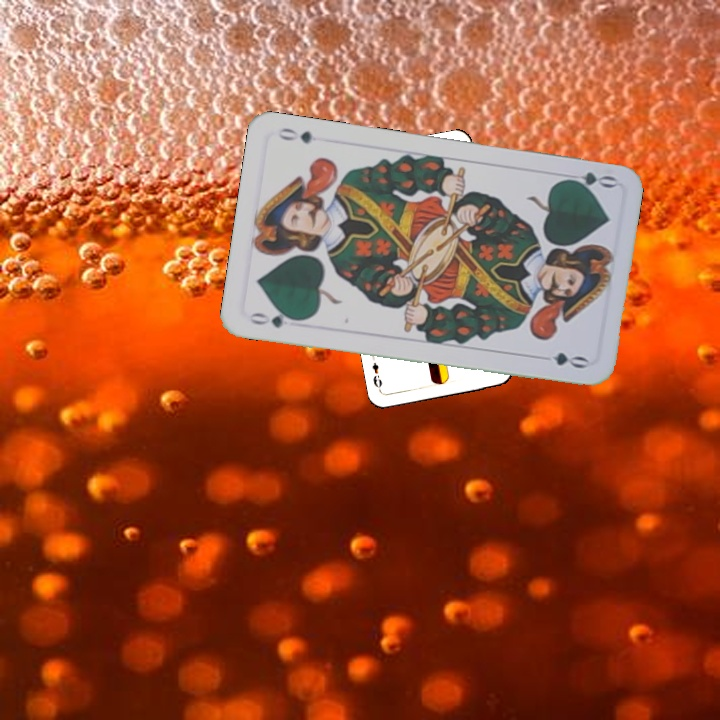GO: (558, 168, 618, 194), (245, 307, 304, 331)
